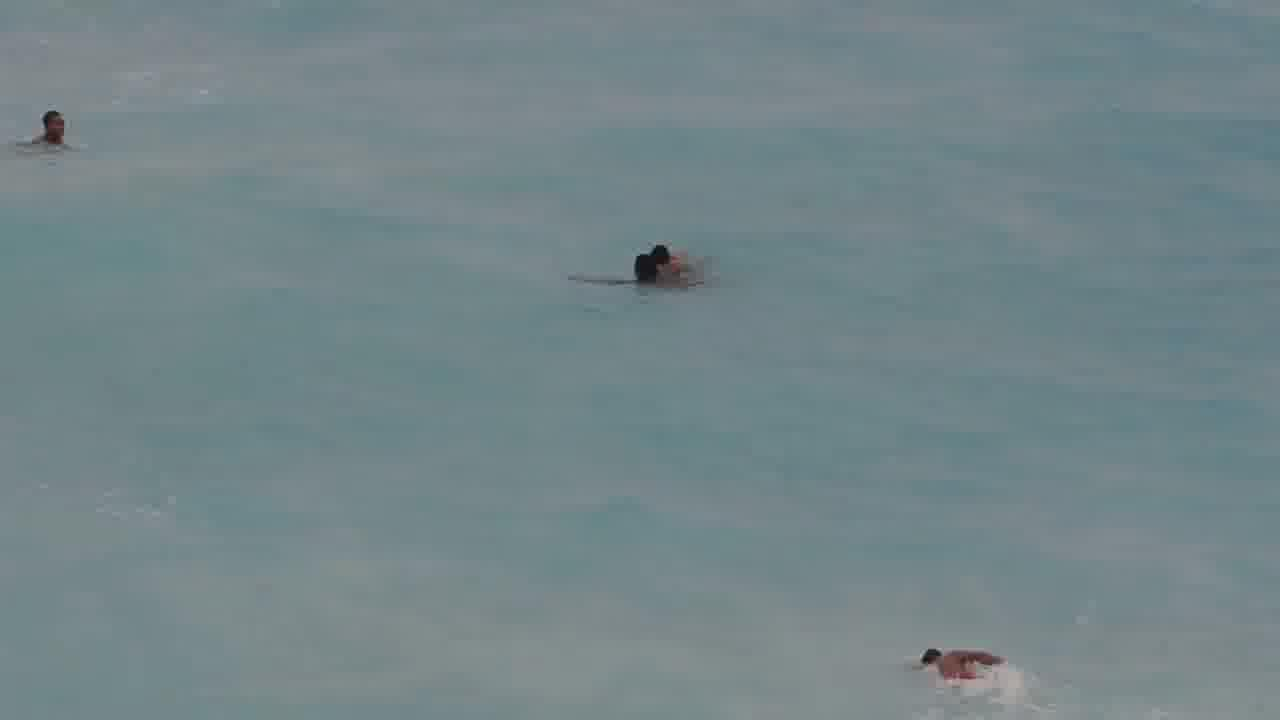swimmer: (906, 634, 1010, 692), (563, 258, 665, 301), (18, 101, 85, 152), (653, 233, 714, 276)
